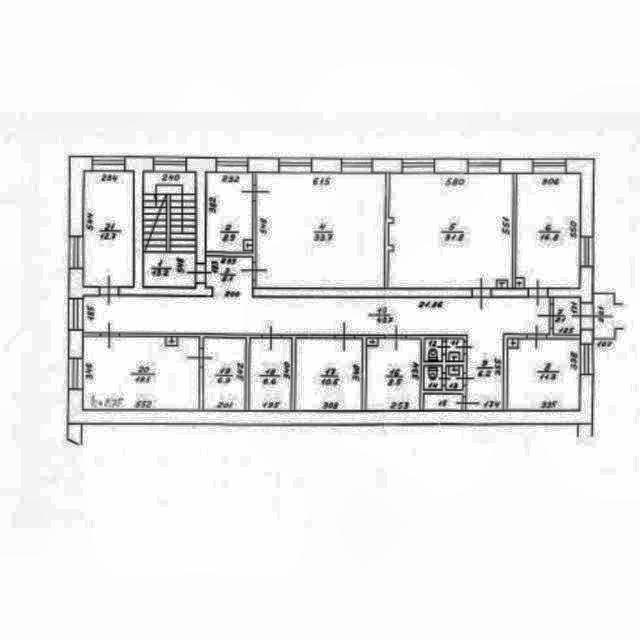room: (76, 234, 554, 421), (258, 175, 386, 288), (390, 175, 513, 288), (83, 337, 199, 409), (518, 175, 579, 289), (145, 172, 196, 287), (85, 172, 134, 286), (510, 340, 579, 409), (298, 340, 362, 409), (368, 340, 421, 409), (208, 172, 252, 251), (250, 337, 292, 411), (205, 337, 246, 409), (555, 297, 579, 334), (425, 395, 462, 409), (425, 367, 442, 389), (448, 340, 464, 361), (448, 367, 463, 389), (428, 340, 442, 361)
